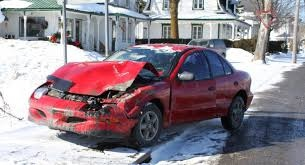Broken-glass: (80, 99, 111, 112)
Dent: (36, 61, 163, 142)
Scratch: (106, 78, 133, 92), (140, 45, 180, 54)
